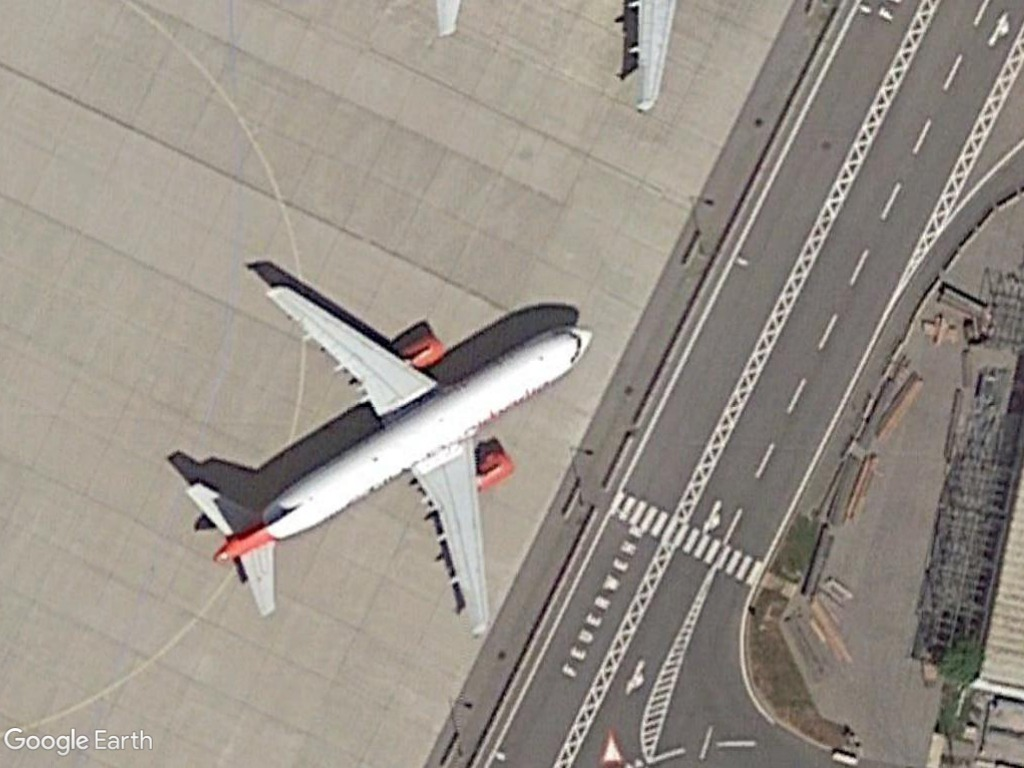airliner: (176, 277, 599, 648)
